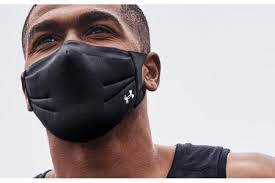FaceMask: (24, 41, 147, 142)
